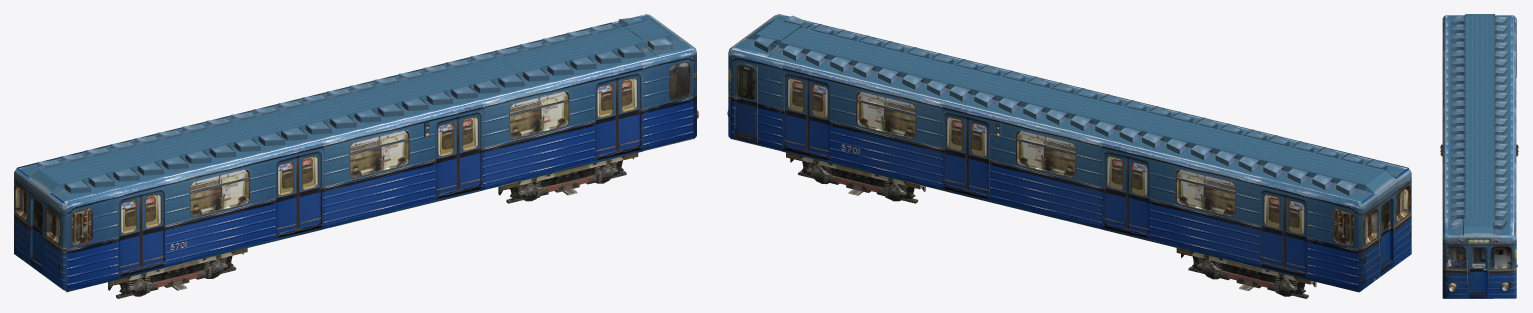
File: metro-car-ezh3.glb
3 renders of one model, left to right at view 1: azimuth 30°, elevation 25°; view 2: azimuth 150°, elevation 25°; view 3: azimuth 270°, elevation 25°, orthographic. The views are drawn at different scales.
Visible parts, largest first — view 1: ezh-3; view 2: ezh-3; view 3: ezh-3.
Part boxes in pixels (x1=…): ezh-3: x1=14, y1=14, x2=698, y2=298; ezh-3: x1=727, y1=14, x2=1411, y2=298; ezh-3: x1=1440, y1=14, x2=1518, y2=298.
Bounding box in the file's own units: 15.05 × 2.81 × 2.22.
51 materials, 51 textured.
